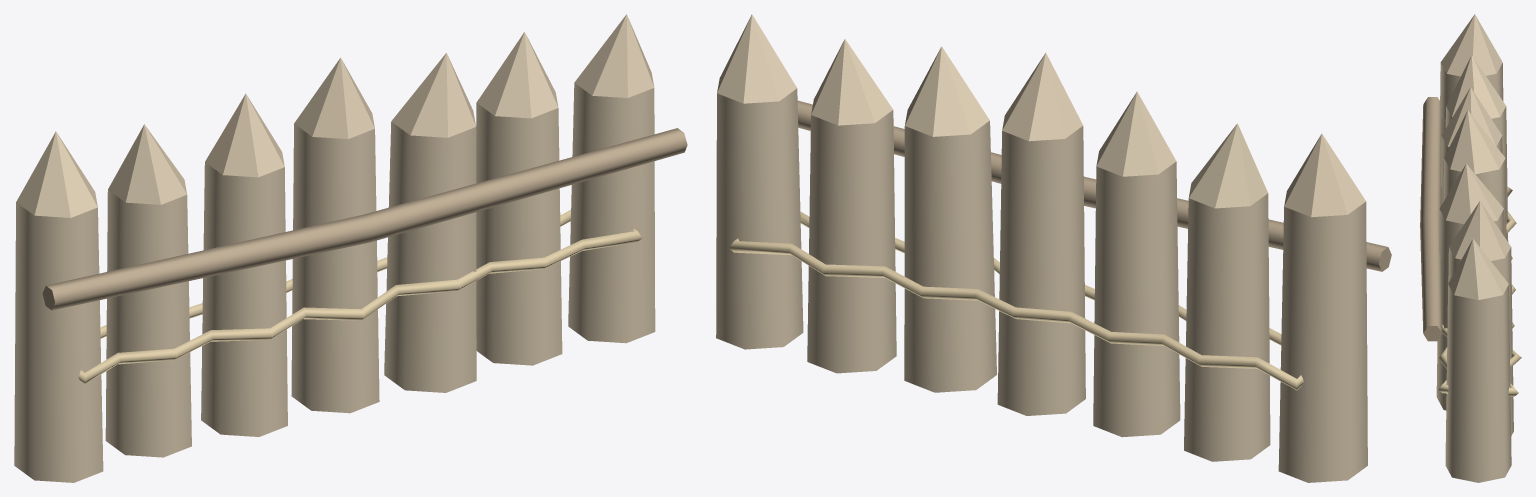
Rendered from building.palisade.glb.
The picture shows the model from 3 angles, left to right: view 1: azimuth 30°, elevation 25°; view 2: azimuth 150°, elevation 25°; view 3: azimuth 270°, elevation 25°; orthographic projection. The views are drawn at different scales.
Parts seen in each view (by area): view 1: Paint, PaintDark, Rope; view 2: Paint, Rope, PaintDark; view 3: Paint, PaintDark, Rope.
Part boxes in pixels (x1,y1,x2,y2): Paint: (14,14,655,482); PaintDark: (42,128,687,310); Rope: (78,210,642,384); Paint: (716,14,1367,482); Rope: (729,211,1303,390); PaintDark: (797,100,1391,271); Paint: (1436,14,1513,482); PaintDark: (1420,97,1442,341); Rope: (1438,187,1521,396).
Bounding box in the file's own units: 1.95 × 1 × 0.3602.
